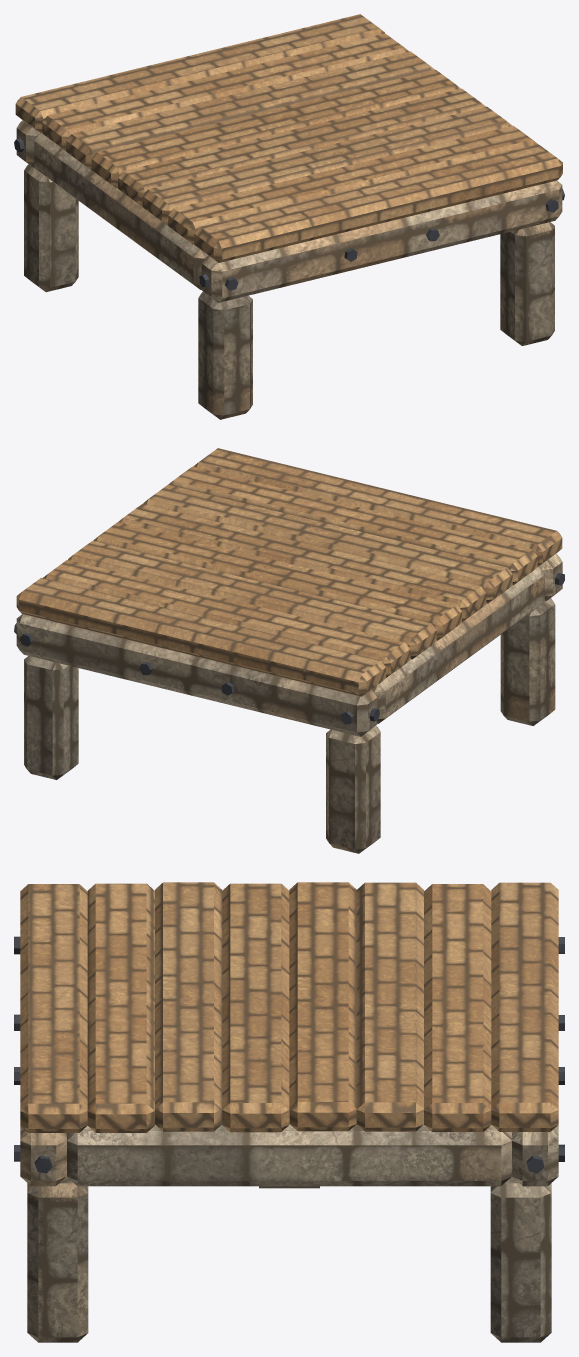
The model's file is kare_temel.glb.
3 views of the same model, one above another, from view 1: azimuth 30°, elevation 25°; view 2: azimuth 150°, elevation 25°; view 3: azimuth 270°, elevation 25° (orthographic). The views are drawn at different scales.
Parts seen in each view (by area): view 1: kare_temel; view 2: kare_temel; view 3: kare_temel.
Part boxes in pixels (left/top/right/bottom): kare_temel: left=14, top=14, right=564, bottom=419; kare_temel: left=14, top=448, right=564, bottom=853; kare_temel: left=14, top=882, right=564, bottom=1342.
Bounding box in the file's own units: 3.07 × 1.5 × 3.07.
1 material, 1 textured.
